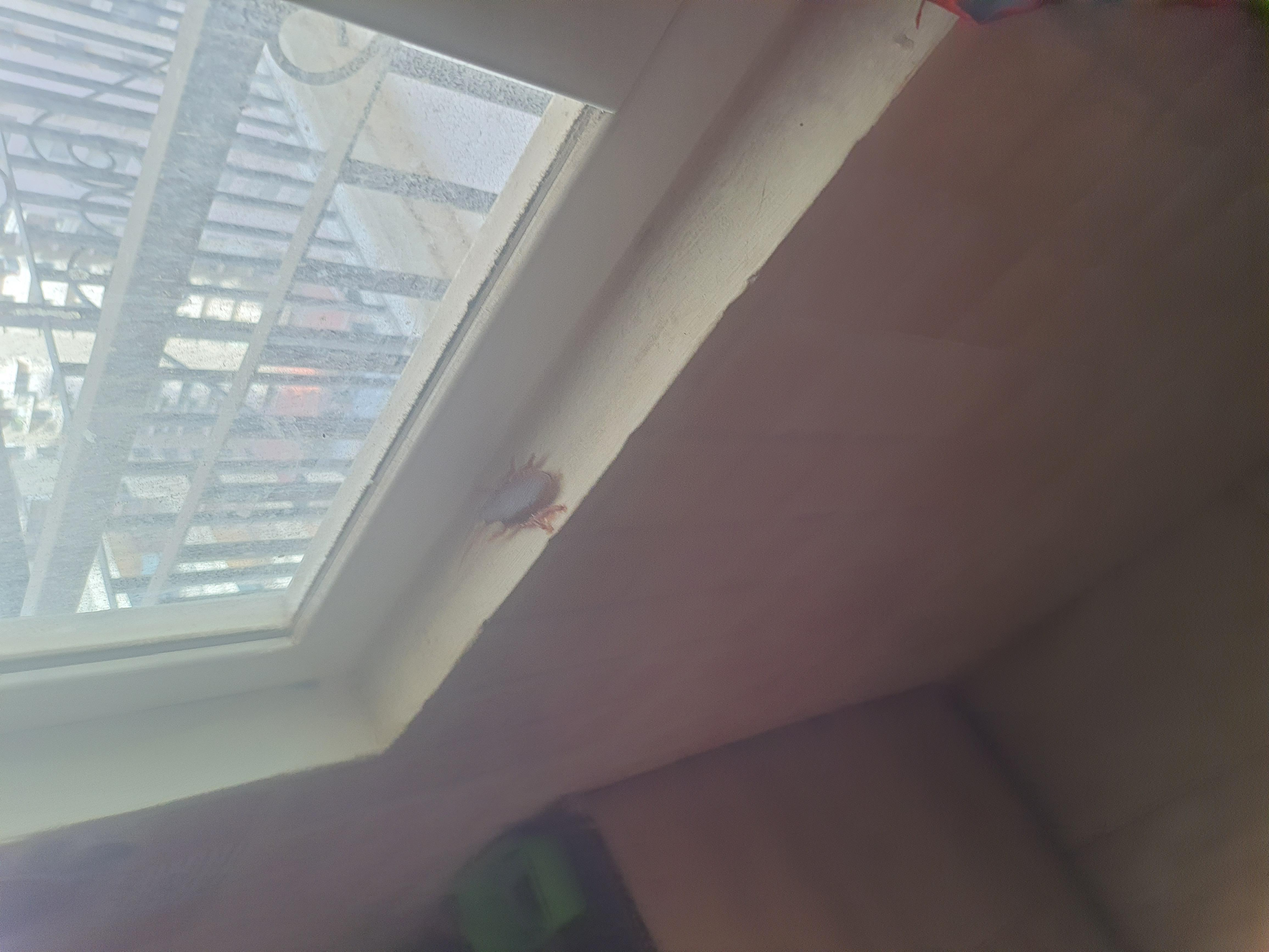cockroach: (521, 351, 669, 438)
